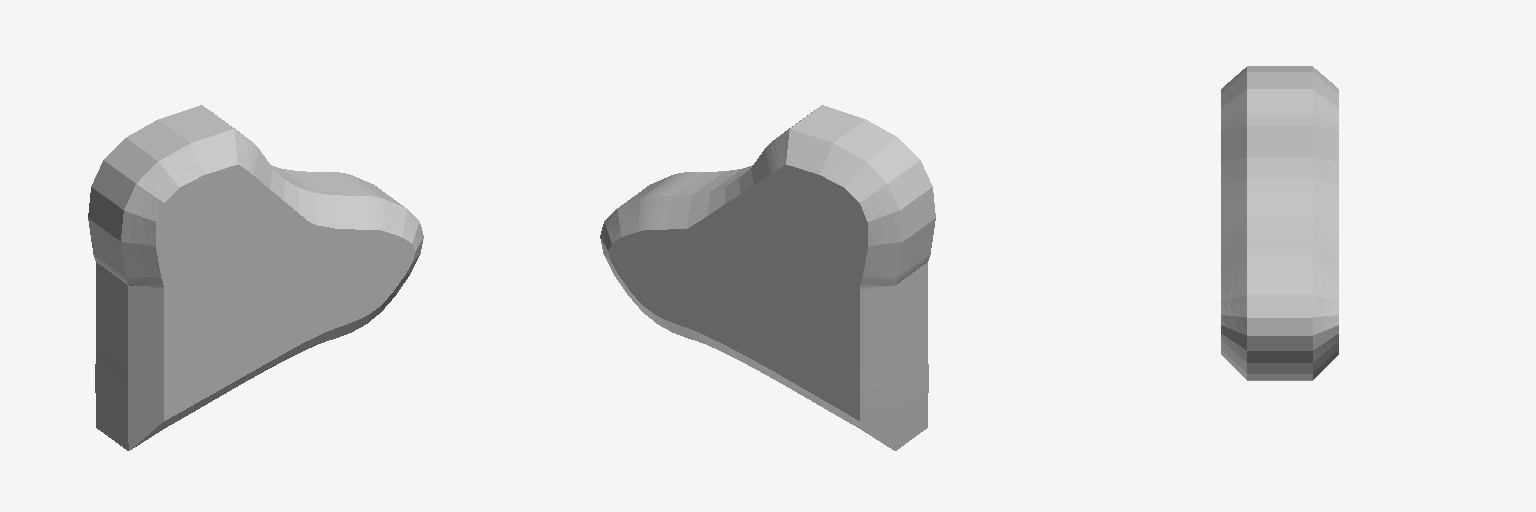
File: storme obj.obj
3 renders of one model, left to right at view 1: azimuth 30°, elevation 25°; view 2: azimuth 150°, elevation 25°; view 3: azimuth 270°, elevation 25°, orthographic.
Visible parts, largest first — view 1: bevelPolygon442; view 2: bevelPolygon442; view 3: bevelPolygon442.
Part boxes in pixels (bbox=[...]): bevelPolygon442: bbox=[88, 105, 423, 450]; bevelPolygon442: bbox=[600, 105, 935, 450]; bevelPolygon442: bbox=[1221, 66, 1338, 380].
Bounding box in the file's own units: 1.34 × 1.25 × 0.45.